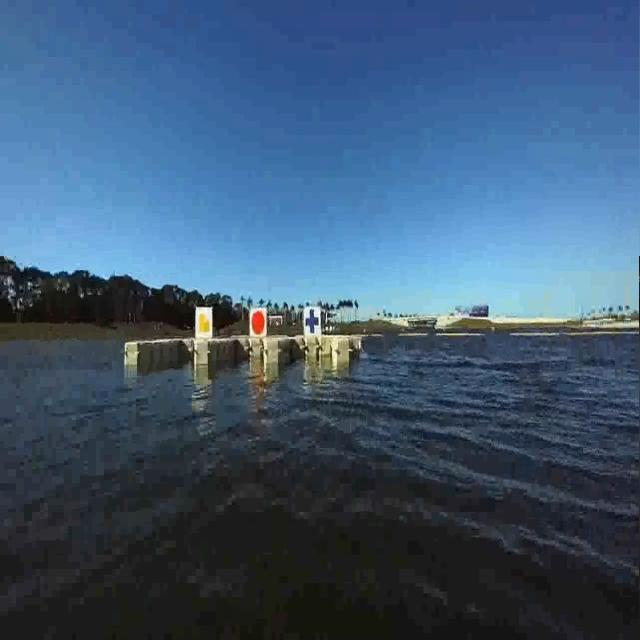blue-cross: (303, 302, 322, 339)
red-dot: (248, 304, 268, 342)
yellow-duck: (200, 311, 212, 333)
